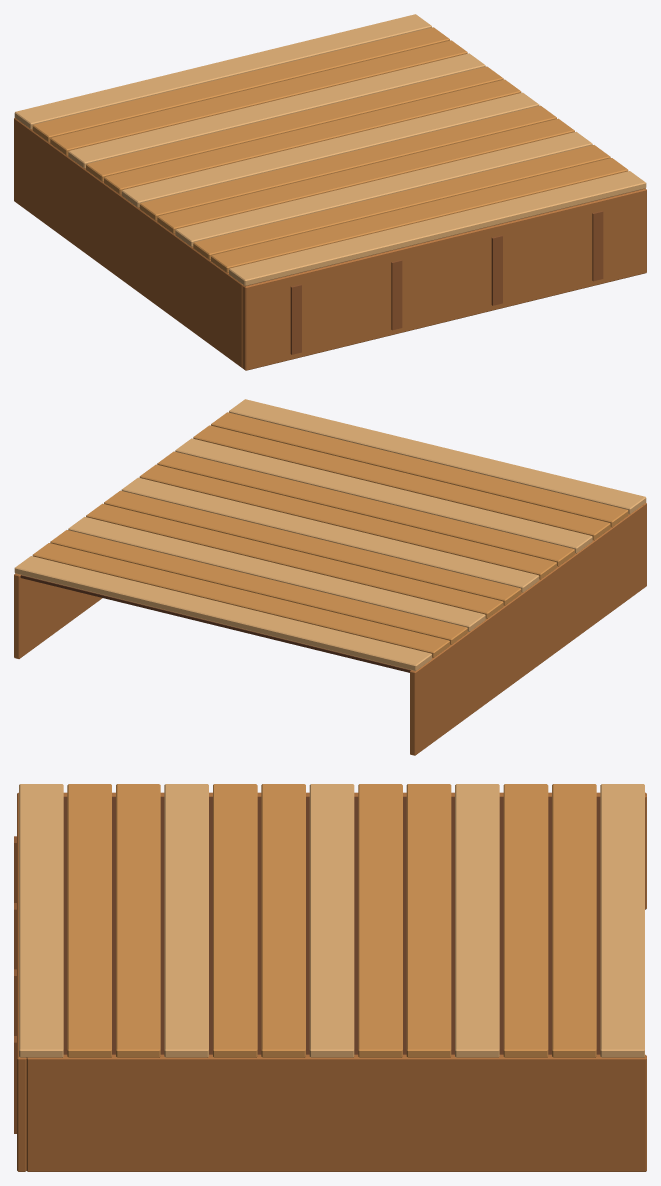
The model's file is deck_2x2m_h45.glb.
The picture shows the model from 3 angles, top to bottom: view 1: azimuth 30°, elevation 25°; view 2: azimuth 150°, elevation 25°; view 3: azimuth 270°, elevation 25°; orthographic projection. The views are drawn at different scales.
Visible parts, largest first — view 1: deck_2x2m_h45; view 2: deck_2x2m_h45; view 3: deck_2x2m_h45.
Boxes of the visible parts, x1=… form: deck_2x2m_h45: x1=14, y1=14, x2=646, y2=370; deck_2x2m_h45: x1=14, y1=399, x2=646, y2=755; deck_2x2m_h45: x1=14, y1=784, x2=646, y2=1171.
Size of the model in its own units: 2 by 0.43 by 2.01.
Materials: 1 (1 with a texture image).
